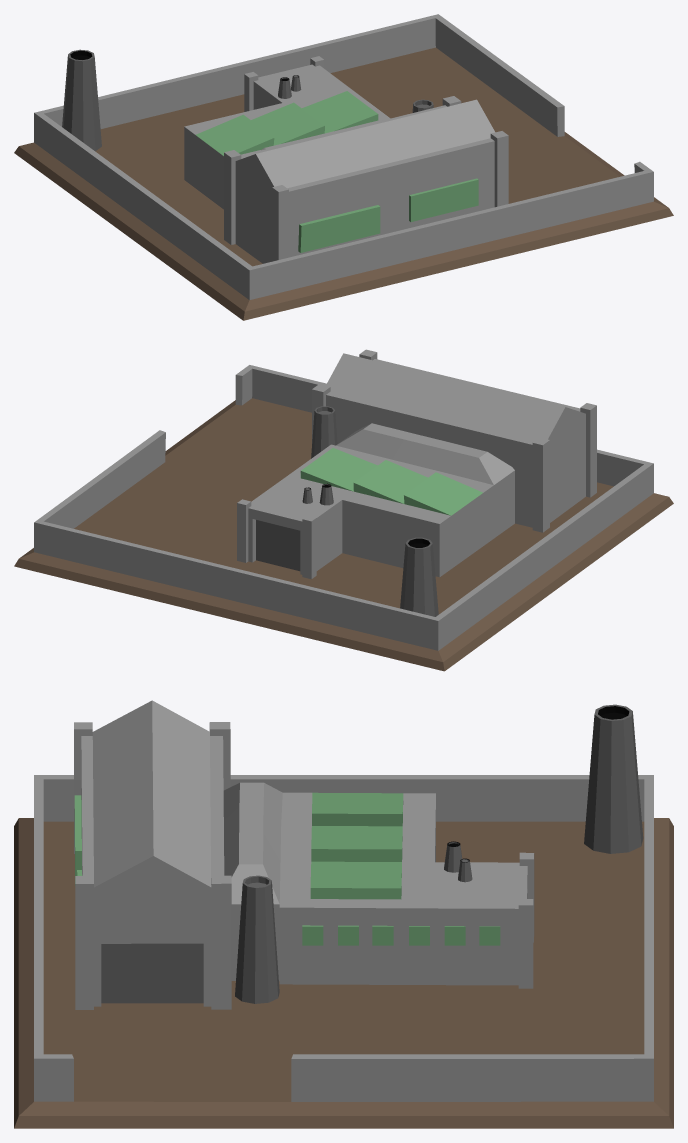
The model's file is industrial_factory_var3_model.fbx.
3 views of the same model, one above another, from view 1: azimuth 30°, elevation 25°; view 2: azimuth 150°, elevation 25°; view 3: azimuth 270°, elevation 25° (orthographic). The views are drawn at different scales.
Parts seen in each view (by area): view 1: polySurface26; view 2: polySurface26; view 3: polySurface26.
Part boxes in pixels (bbox=[...]): polySurface26: bbox=[14, 14, 673, 320]; polySurface26: bbox=[14, 349, 673, 671]; polySurface26: bbox=[14, 700, 673, 1128].
Size of the model in its own units: 9.71 by 2.52 by 8.96.
1 material, 1 textured.
